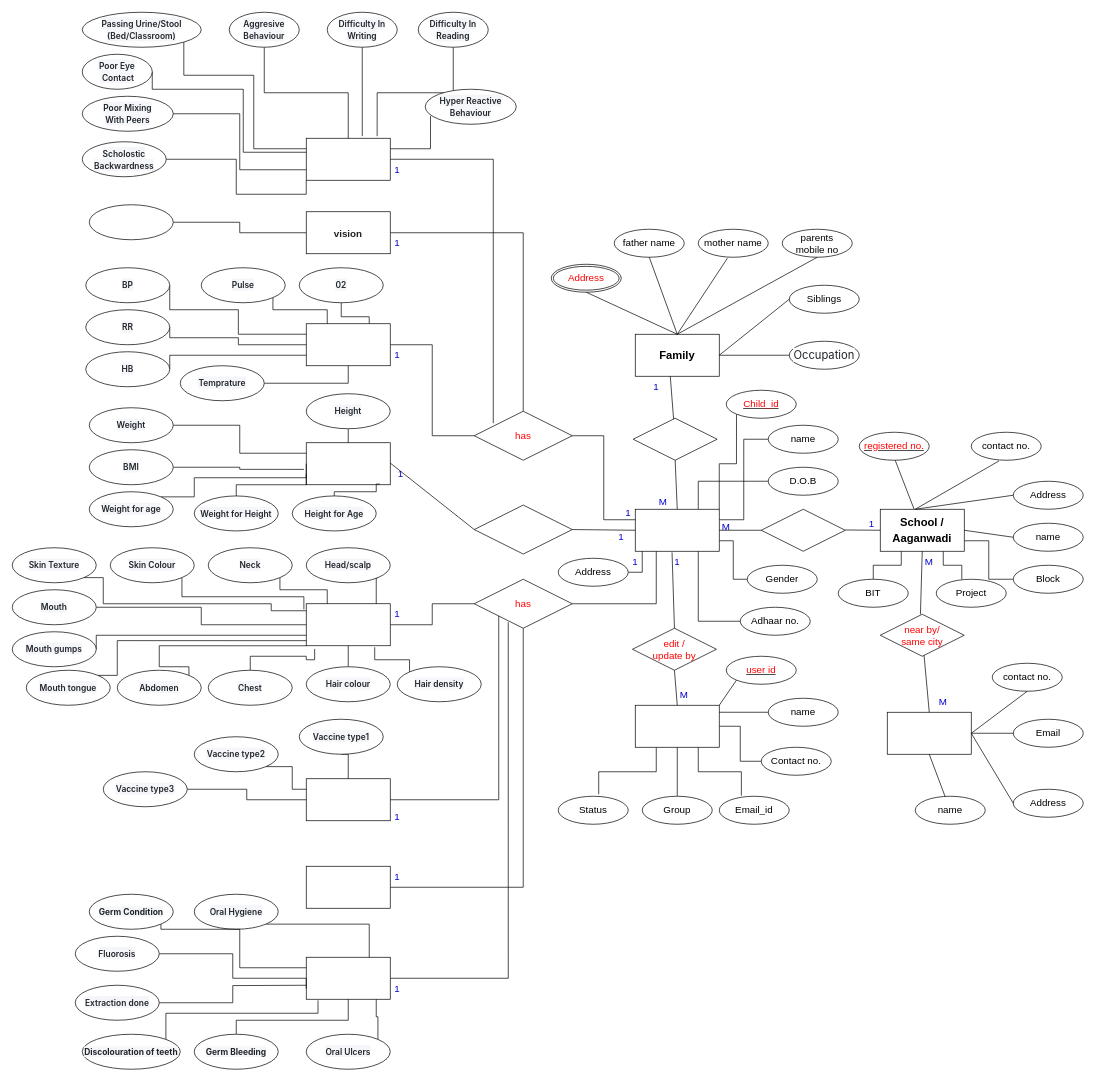
Some shapes in this 1096 by 1082 pixel diagram are drawn without their labels. Each missing label, with the centre of its shape:
"Auditory" belongs at (x=348, y=887).
"Basic screening" belongs at (x=348, y=624).
"BMI & Symptoms" belongs at (x=348, y=463).
"Child" belongs at (x=677, y=530).
"Dental check up" belongs at (x=348, y=978).
"eye" belongs at (x=131, y=222).
"Growth monitoring" belongs at (x=523, y=529).
"have" belongs at (x=674, y=439).
"Hospital" belongs at (x=929, y=733).
"Immunisation" belongs at (x=348, y=799).
"psychological" belongs at (x=348, y=159).
"Study in" belongs at (x=803, y=530).
"User" belongs at (x=677, y=726).
"vital information" belongs at (x=348, y=344).
